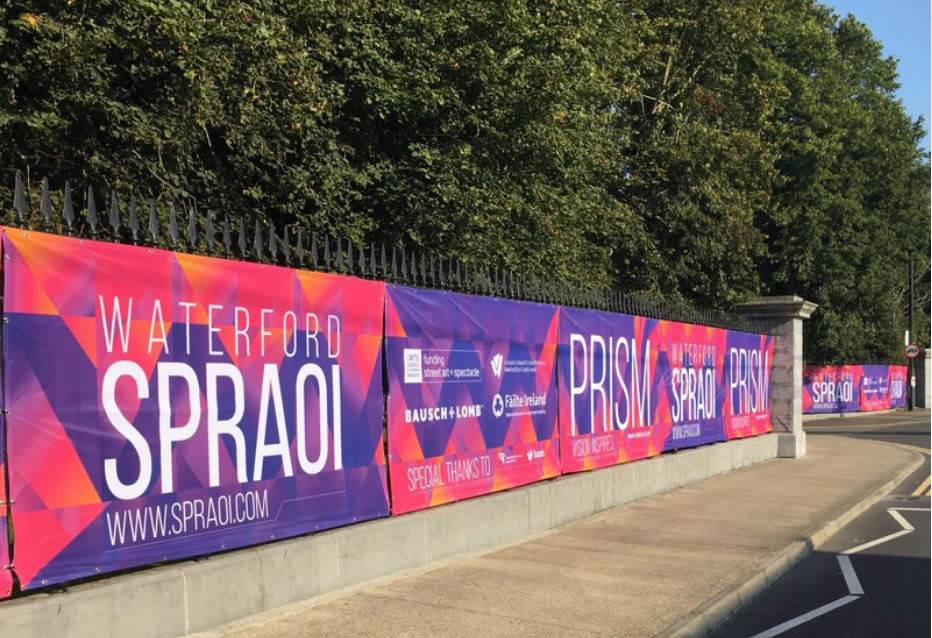vinyl banner: (5, 213, 393, 597), (387, 277, 565, 520), (567, 301, 667, 482), (667, 315, 777, 457), (802, 356, 913, 422)
